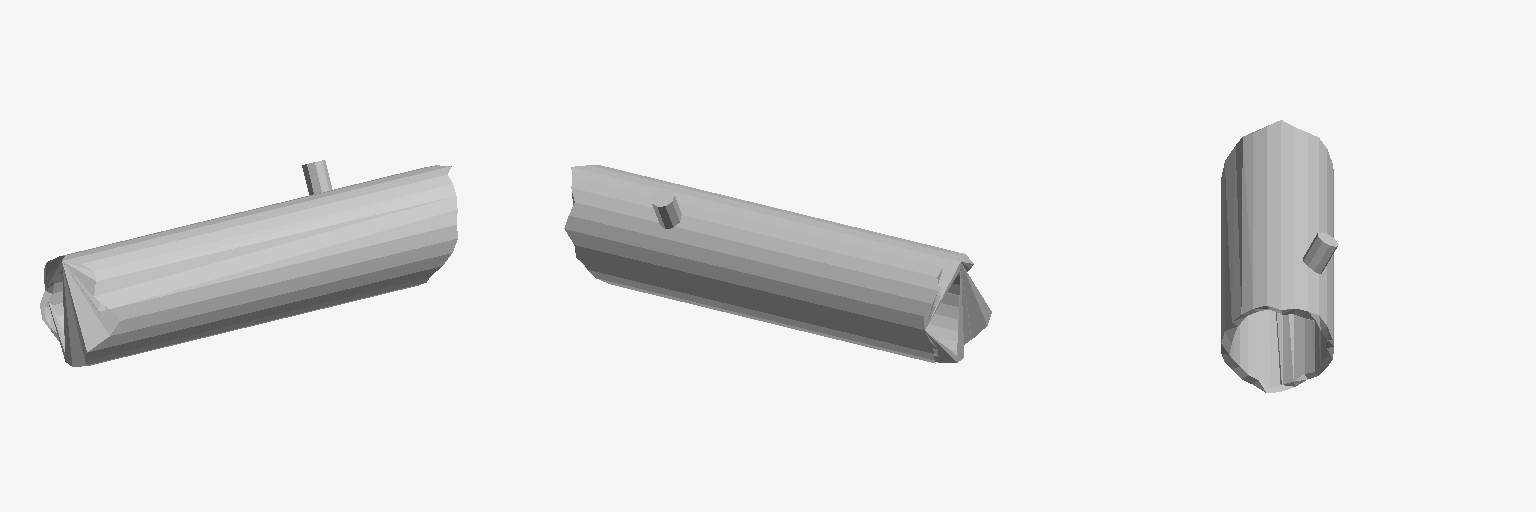
Rendered from log.obj.
3 renders of one model, left to right at view 1: azimuth 30°, elevation 25°; view 2: azimuth 150°, elevation 25°; view 3: azimuth 270°, elevation 25°, orthographic.
Visible parts, largest first — view 1: Cylinder; view 2: Cylinder; view 3: Cylinder.
Boxes of the visible parts, <box> form: Cylinder: <box>40,160,457,366</box>; Cylinder: <box>564,165,991,363</box>; Cylinder: <box>1221,120,1338,392</box>.
Size of the model in its own units: 5.91 by 1.75 by 1.53.